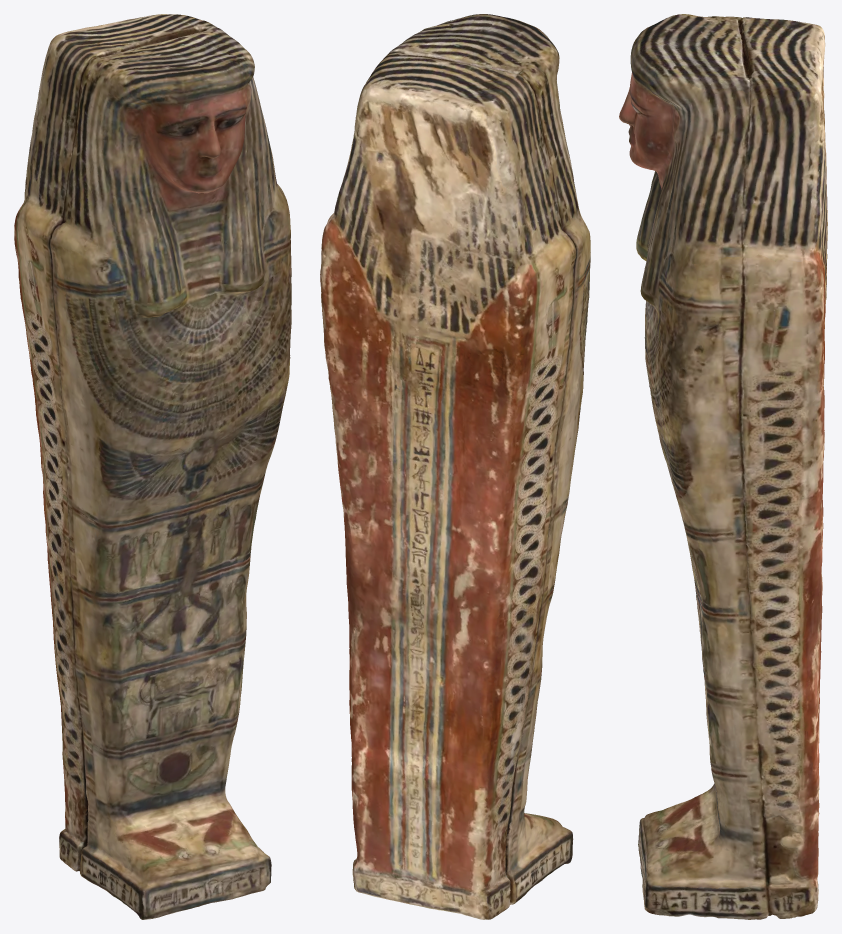
Rendered from sarcophage.glb.
3 views of the same model, side by side, from view 1: azimuth 30°, elevation 25°; view 2: azimuth 150°, elevation 25°; view 3: azimuth 270°, elevation 25° (orthographic).
Parts seen in each view (by area): view 1: Object_3; view 2: Object_3; view 3: Object_3.
Boxes of the visible parts, x1,y1,x2,y2 form: Object_3: (14,14,291,919); Object_3: (320,14,590,919); Object_3: (619,14,827,919).
Size of the model in its own units: 495 by 1766 by 396.
1 material, 1 textured.
